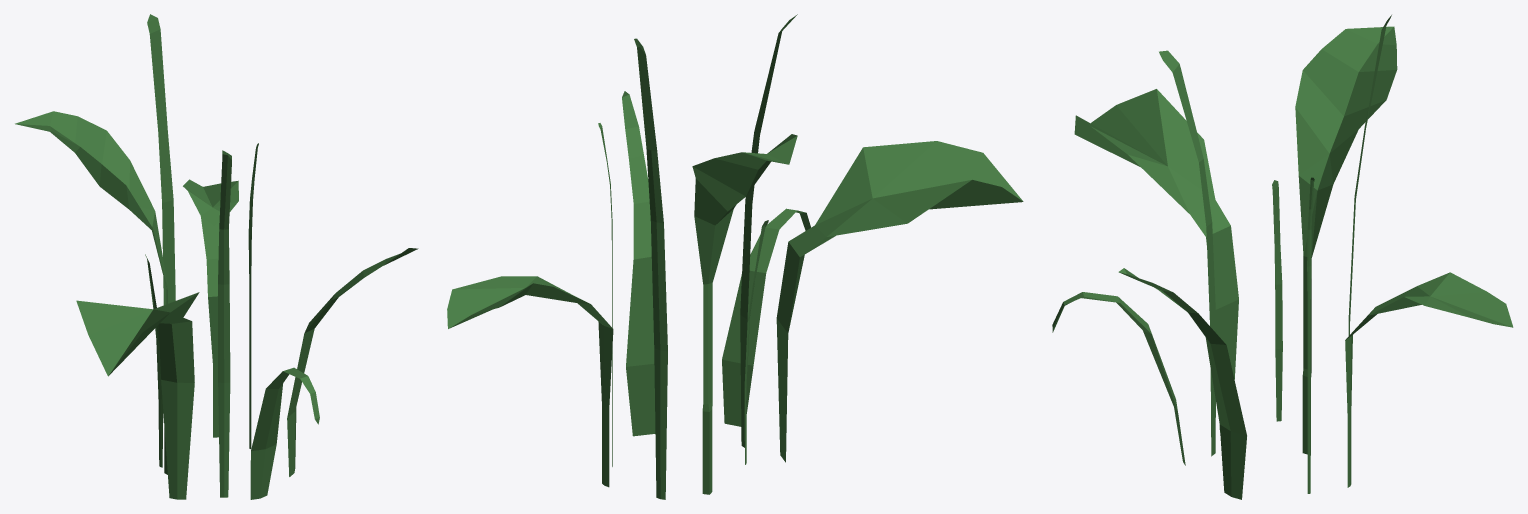
The model's file is Weed01.gltf.
3 views of the same model, side by side, from view 1: azimuth 30°, elevation 25°; view 2: azimuth 150°, elevation 25°; view 3: azimuth 270°, elevation 25° (orthographic). The views are drawn at different scales.
Visible parts, largest first — view 1: Plane; view 2: Plane; view 3: Plane.
Boxes of the visible parts, x1,y1,x2,y2 form: Plane: [15, 14, 418, 499]; Plane: [447, 14, 1023, 499]; Plane: [1052, 15, 1513, 499].
Size of the model in its own units: 0.9676 by 1.18 by 1.1.
1 material, 1 textured.
